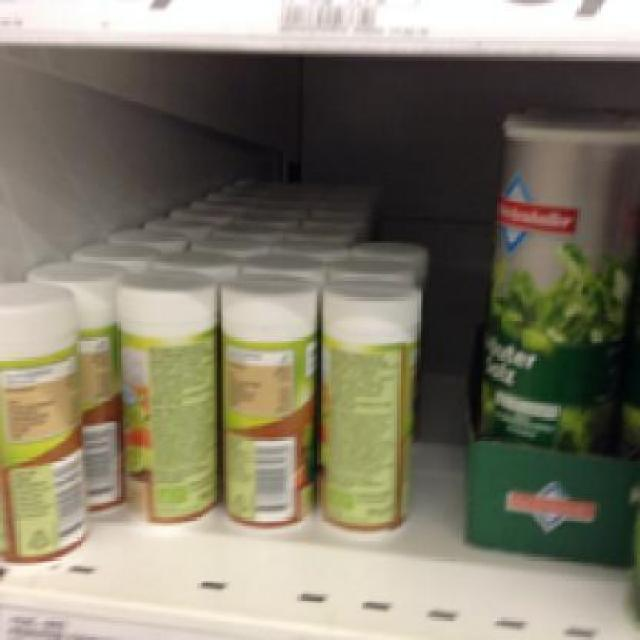Spices: (472, 109, 638, 452), (112, 262, 220, 528), (214, 268, 317, 532), (0, 276, 92, 569), (320, 279, 417, 532)
